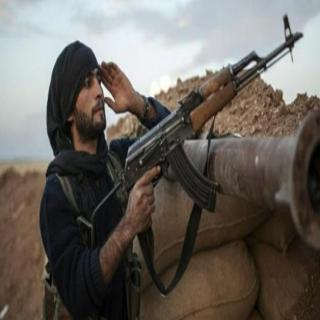gun: (76, 13, 302, 249)
